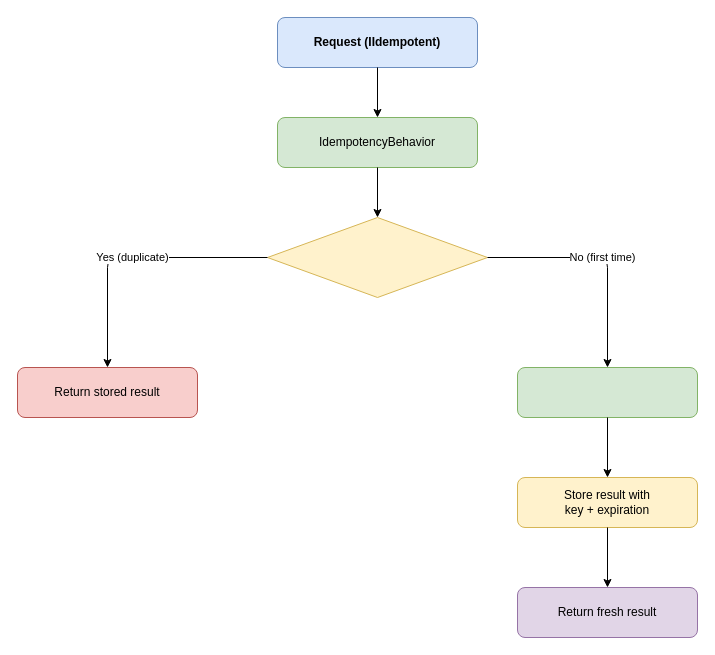
This 715x655 diagram has some shape labels left out. The shapes that lost their labels are listed below. From the top down, each one's box as (x1, y1, x2, y2) in pixels, then its label:
(266, 216, 488, 298): Key exists in store?
(516, 366, 698, 418): Execute Handler
